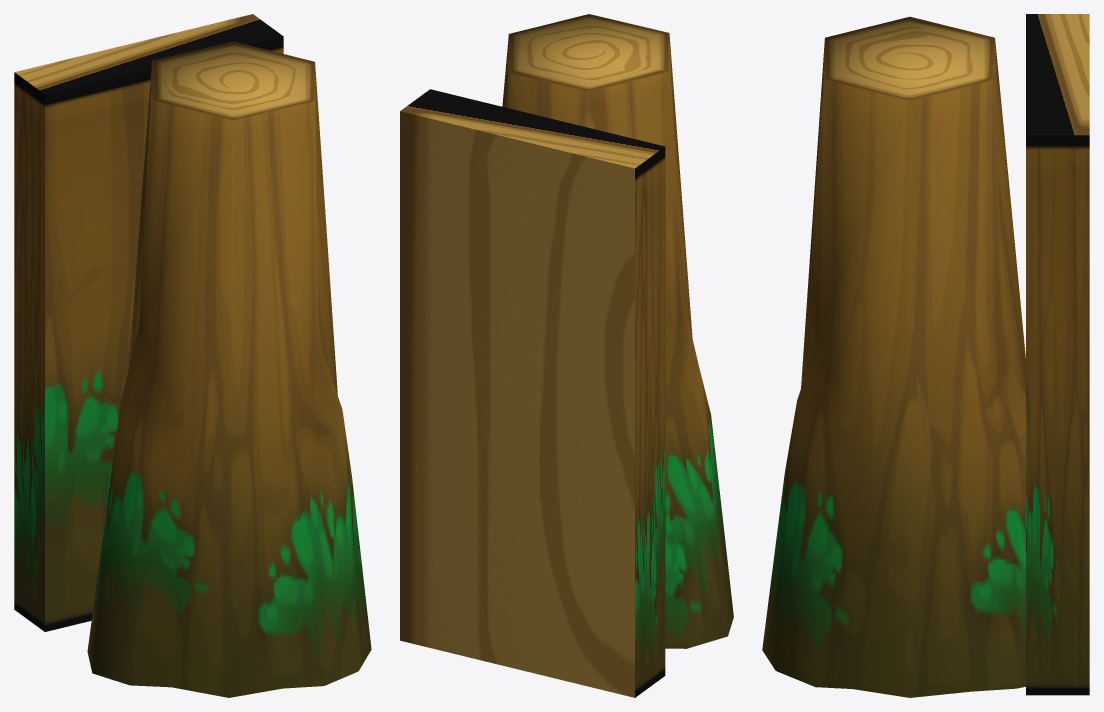
File: STM_B.fbx
3 renders of one model, left to right at view 1: azimuth 30°, elevation 25°; view 2: azimuth 150°, elevation 25°; view 3: azimuth 270°, elevation 25°, orthographic. The views are drawn at different scales.
Visible parts, largest first — view 1: stumpB, pCube1; view 2: pCube1, stumpB; view 3: stumpB, pCube1.
Boxes of the visible parts, x1,y1,x2,y2 form: stumpB: (87,41,371,697); pCube1: (14,14,283,631); pCube1: (400,89,665,697); stumpB: (502,14,733,648); stumpB: (762,16,1025,697); pCube1: (1026,14,1089,695).
Size of the model in its own units: 93.03 by 195 by 99.29.
